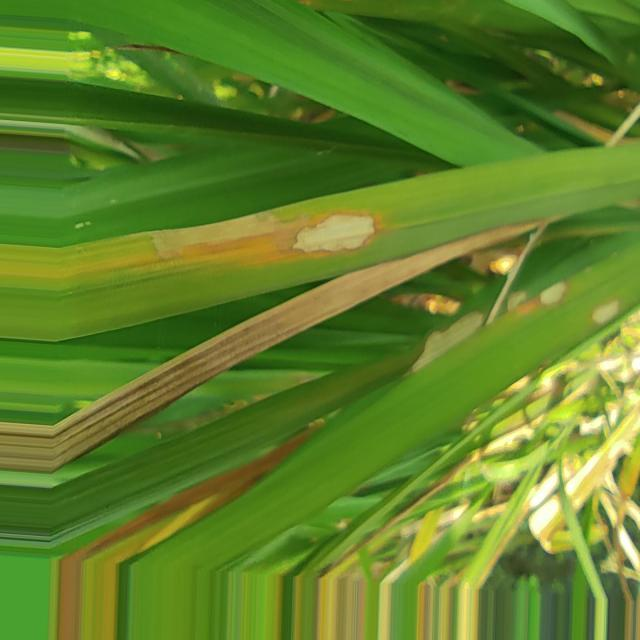Leaf_Blast: (0, 222, 536, 472)
Rice False Smut: (151, 212, 279, 260), (292, 213, 375, 253)
